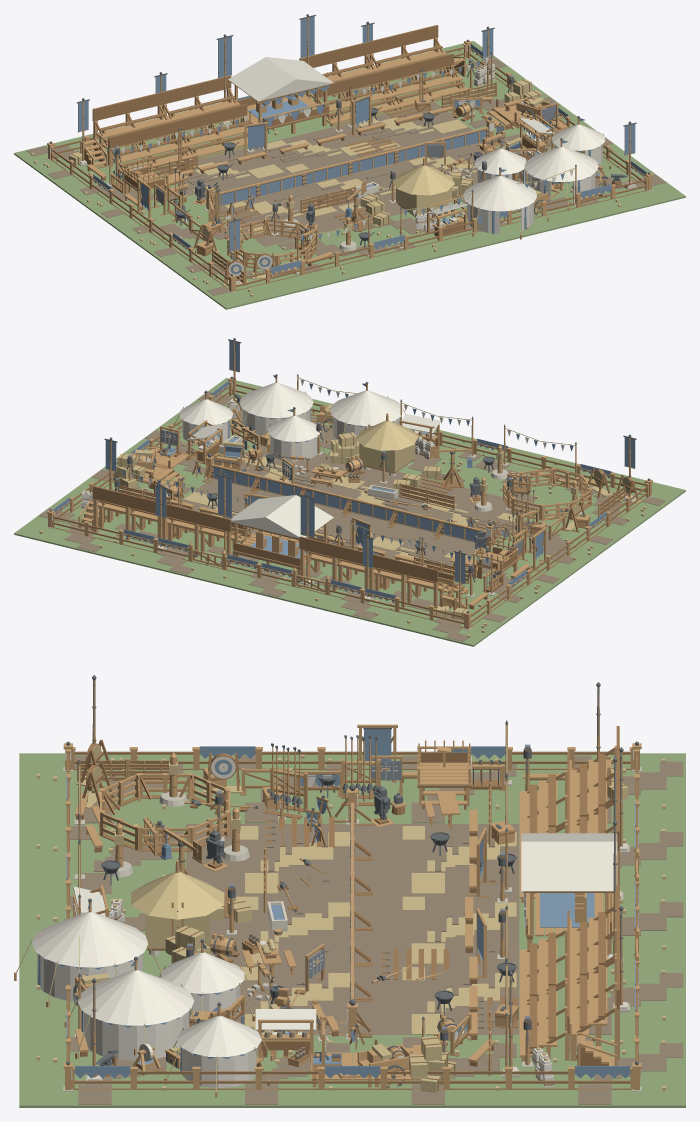
The model's file is -10f3fa4c-starter-scene.glb.
The picture shows the model from 3 angles, top to bottom: view 1: azimuth 30°, elevation 25°; view 2: azimuth 150°, elevation 25°; view 3: azimuth 270°, elevation 25°; orthographic projection. The views are drawn at different scales.
Parts seen in each view (by area): view 1: 087-royal-box/3, 003-tournament-ground-module/0, 007-tournament-ground-module/0, 139-pavilion-tent-large/0, 019-tournament-ground-module/0, 011-tournament-ground-module/0, 006-tournament-ground-module-mud/0, 138-pavilion-tent-large/0, 002-tournament-ground-module/0, 009-tournament-ground-module-mud/0, 164-hay-rick/3, 001-tournament-ground-module/0 (+48 smaller); view 2: 000-tournament-ground-module/0, 138-pavilion-tent-large/0, 016-tournament-ground-module/0, 087-royal-box/3, 164-hay-rick/3, 139-pavilion-tent-large/0, 004-tournament-ground-module/0, 007-tournament-ground-module/0, 012-tournament-ground-module/0, 003-tournament-ground-module/0, 002-tournament-ground-module/0, 005-tournament-ground-module-mud/0 (+38 smaller); view 3: 009-tournament-ground-module-mud/0, 005-tournament-ground-module-mud/0, 138-pavilion-tent-large/0, 013-tournament-ground-module-mud/0, 016-tournament-ground-module/0, 139-pavilion-tent-large/0, 019-tournament-ground-module/0, 006-tournament-ground-module-mud/0, 007-tournament-ground-module/0, 003-tournament-ground-module/0, 087-royal-box/3, 017-tournament-ground-module/0 (+60 smaller).
Boxes of the visible parts, left/top/right/bottom form: 087-royal-box/3: left=228, top=57, right=333, bottom=123; 003-tournament-ground-module/0: left=173, top=247, right=318, bottom=309; 007-tournament-ground-module/0: left=265, top=228, right=410, bottom=287; 139-pavilion-tent-large/0: left=463, top=175, right=536, bottom=233; 019-tournament-ground-module/0: left=551, top=157, right=685, bottom=219; 011-tournament-ground-module/0: left=365, top=208, right=501, bottom=264; 006-tournament-ground-module-mud/0: left=219, top=186, right=346, bottom=246; 138-pavilion-tent-large/0: left=524, top=146, right=598, bottom=202; 002-tournament-ground-module/0: left=120, top=210, right=264, bottom=270; 009-tournament-ground-module-mud/0: left=253, top=124, right=380, bottom=175; 164-hay-rick/3: left=393, top=165, right=454, bottom=216; 001-tournament-ground-module/0: left=67, top=170, right=206, bottom=231; 000-tournament-ground-module/0: left=381, top=588, right=526, bottom=646; 138-pavilion-tent-large/0: left=239, top=382, right=313, bottom=437; 016-tournament-ground-module/0: left=14, top=494, right=152, bottom=556; 087-royal-box/3: left=231, top=495, right=333, bottom=538; 164-hay-rick/3: left=356, top=420, right=418, bottom=472; 139-pavilion-tent-large/0: left=330, top=390, right=403, bottom=441; 004-tournament-ground-module/0: left=289, top=566, right=428, bottom=624; 007-tournament-ground-module/0: left=459, top=447, right=587, bottom=504; 012-tournament-ground-module/0: left=106, top=521, right=240, bottom=579; 003-tournament-ground-module/0: left=544, top=472, right=685, bottom=529; 002-tournament-ground-module/0: left=494, top=507, right=632, bottom=568; 005-tournament-ground-module-mud/0: left=361, top=524, right=479, bottom=573; 009-tournament-ground-module-mud/0: left=354, top=894, right=519, bottom=964; 005-tournament-ground-module-mud/0: left=354, top=824, right=519, bottom=894; 138-pavilion-tent-large/0: left=77, top=970, right=194, bottom=1060; 013-tournament-ground-module-mud/0: left=354, top=964, right=519, bottom=1034; 016-tournament-ground-module/0: left=519, top=1035, right=685, bottom=1107; 139-pavilion-tent-large/0: left=32, top=911, right=147, bottom=1001; 019-tournament-ground-module/0: left=19, top=1035, right=185, bottom=1107; 006-tournament-ground-module-mud/0: left=186, top=824, right=350, bottom=894; 007-tournament-ground-module/0: left=19, top=824, right=185, bottom=894; 003-tournament-ground-module/0: left=19, top=753, right=185, bottom=823; 087-royal-box/3: left=521, top=833, right=617, bottom=909; 017-tournament-ground-module/0: left=352, top=1035, right=519, bottom=1107.
Bounding box in the file's own units: 40 × 7.53 × 32.25.
